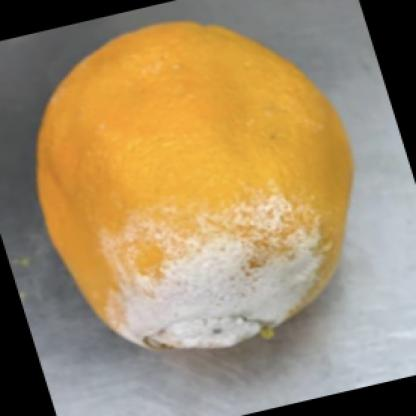rotten_orange: (30, 18, 357, 350)
